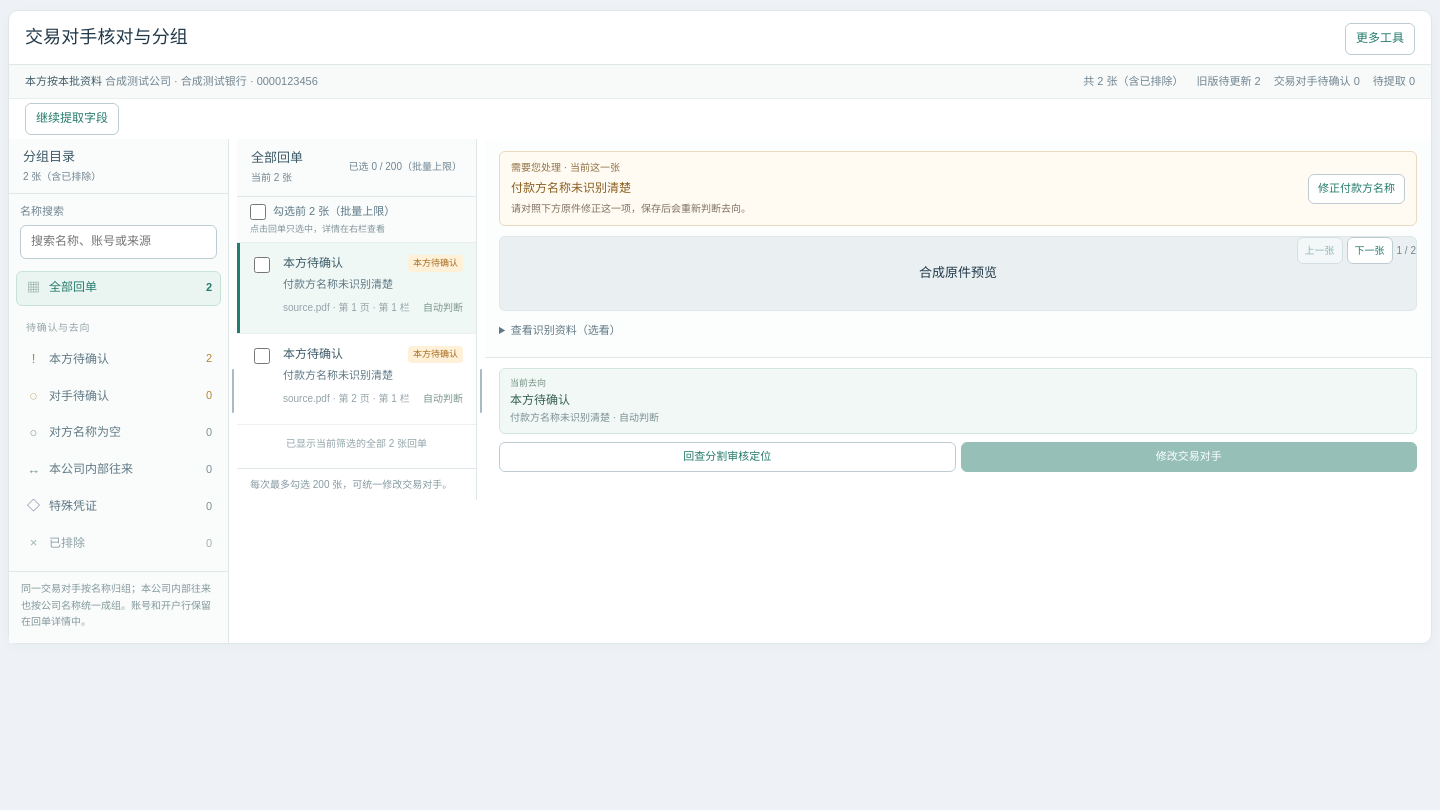
Test: 分组需要处理卡与简单确认 › 快捷修正仅当前这一张，在原件前直接编辑目标字段，不随复选框批量且备注可空
This screenshot has width=1440, height=810.
Step 1. Click the checkbox labelled "勾选前 2 张（批量上限）" → [258, 212], box x1=250 y1=204 x2=266 y2=220
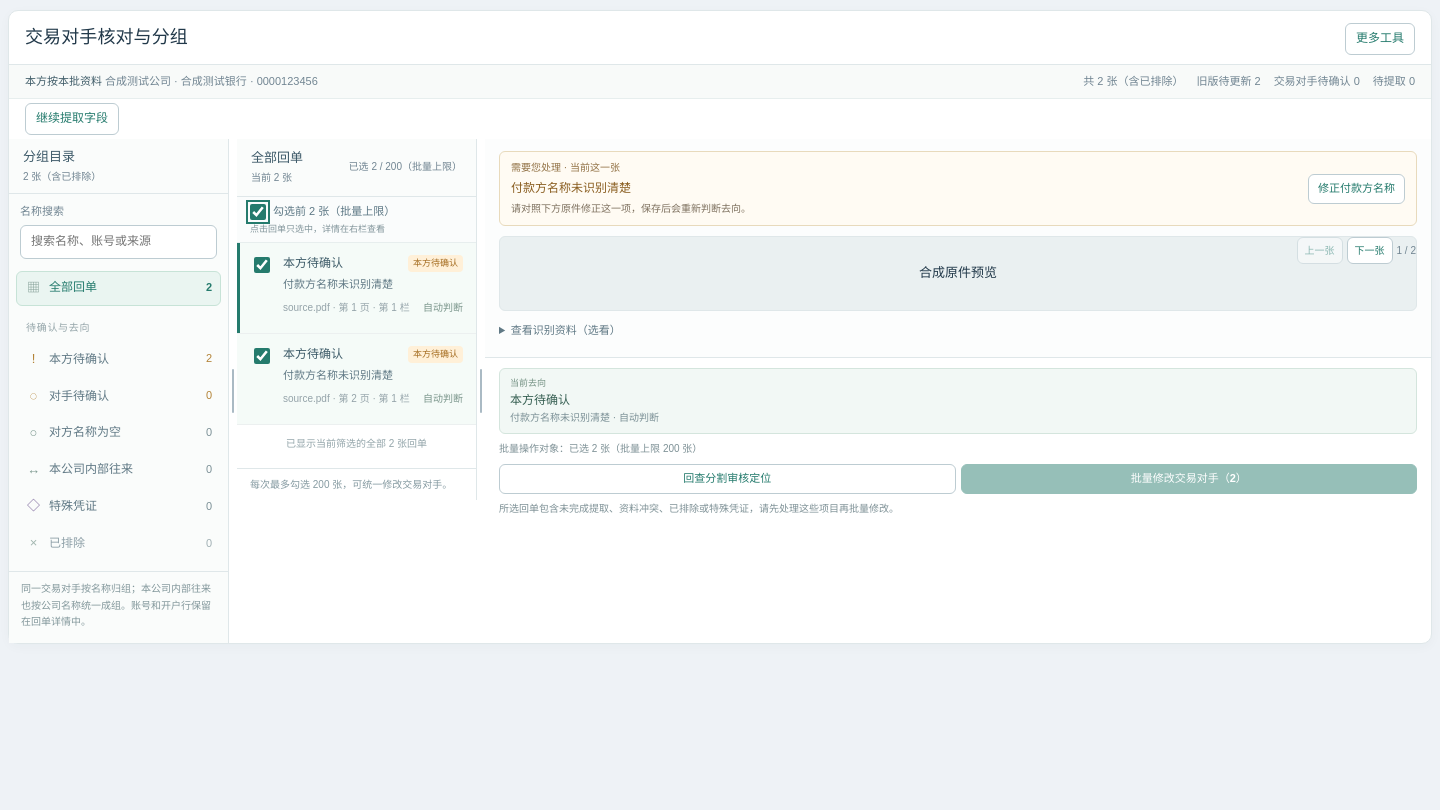
Step 2. Click the button "修正付款方名称" → [1356, 189], box x1=1308 y1=174 x2=1405 y2=204
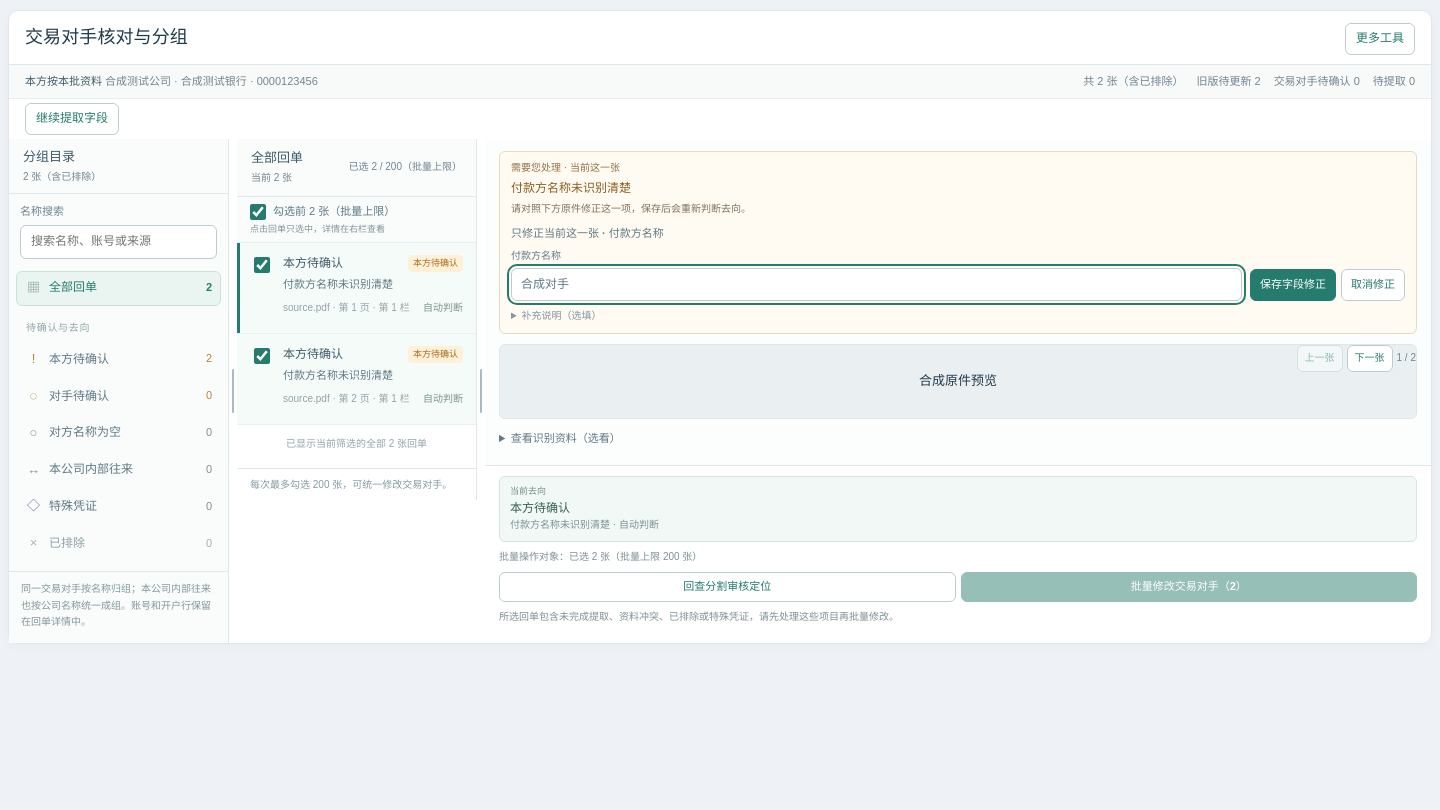
expect the text "合成原件预览" is shown: met, box x1=919 y1=373 x2=997 y2=388
expect the element "只修正当前这一张 · 付款方名称" is shown: met, box x1=511 y1=226 x2=1405 y2=324
Step 3. Replace the text in the field named "字段修正值" with "合成测试公司" → [876, 284], box x1=511 y1=268 x2=1242 y2=301
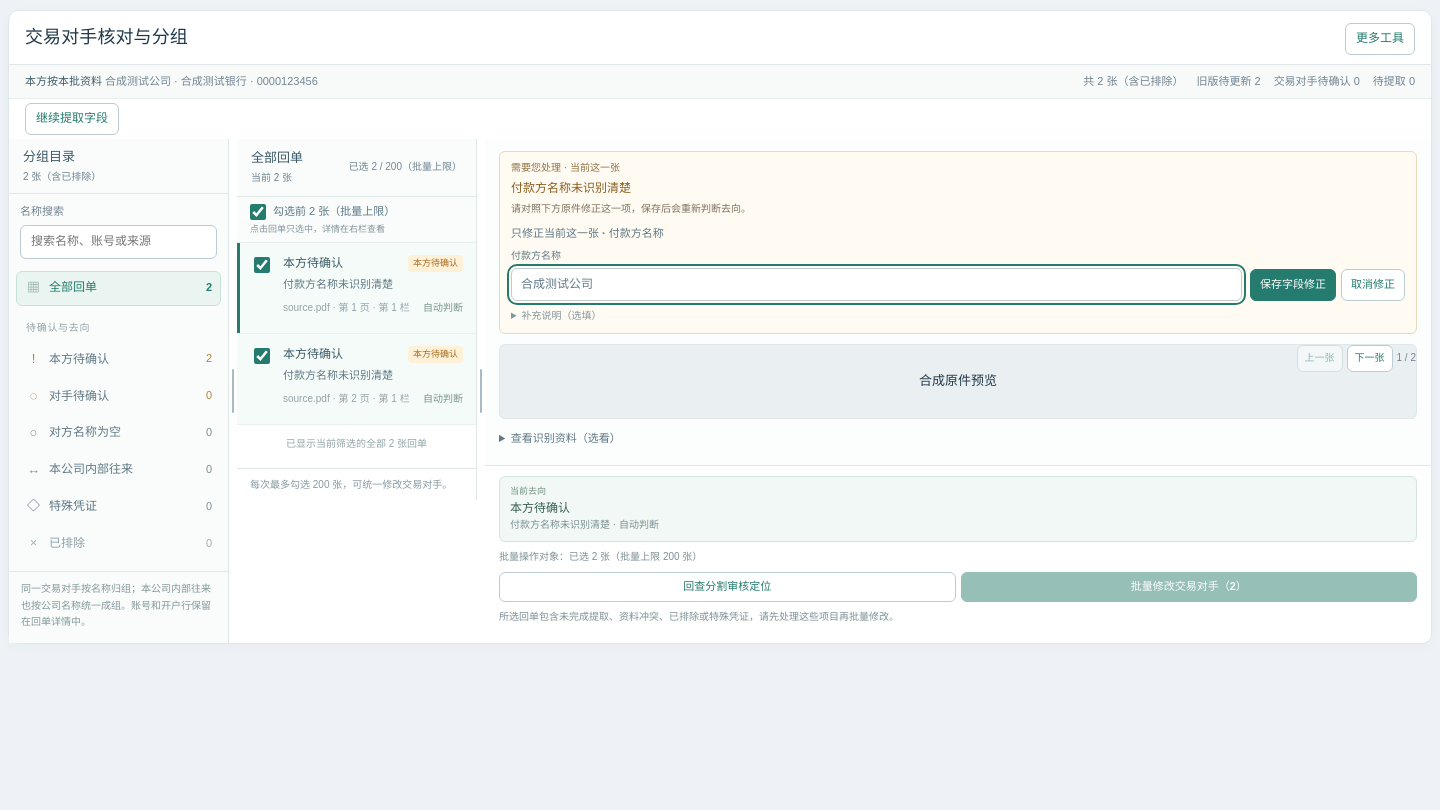
Step 4. Click the button "保存字段修正" → [1293, 285], box x1=1250 y1=269 x2=1336 y2=301
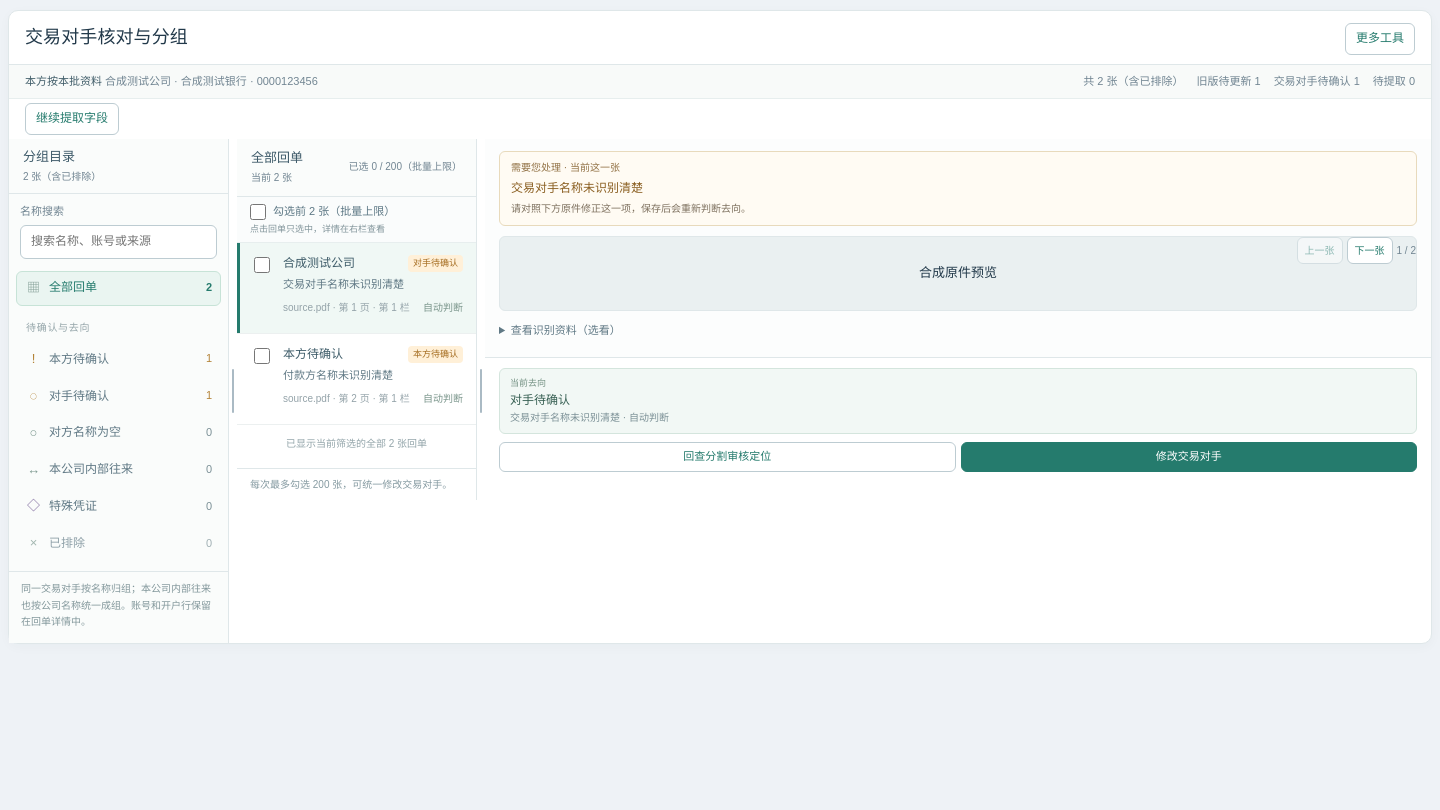
expect the text "交易对手名称未识别清楚" below "需要您处理 · 当前这一张" is shown: met, box x1=511 y1=180 x2=643 y2=194
expect the field labelled "字段修正值" is gone: met
